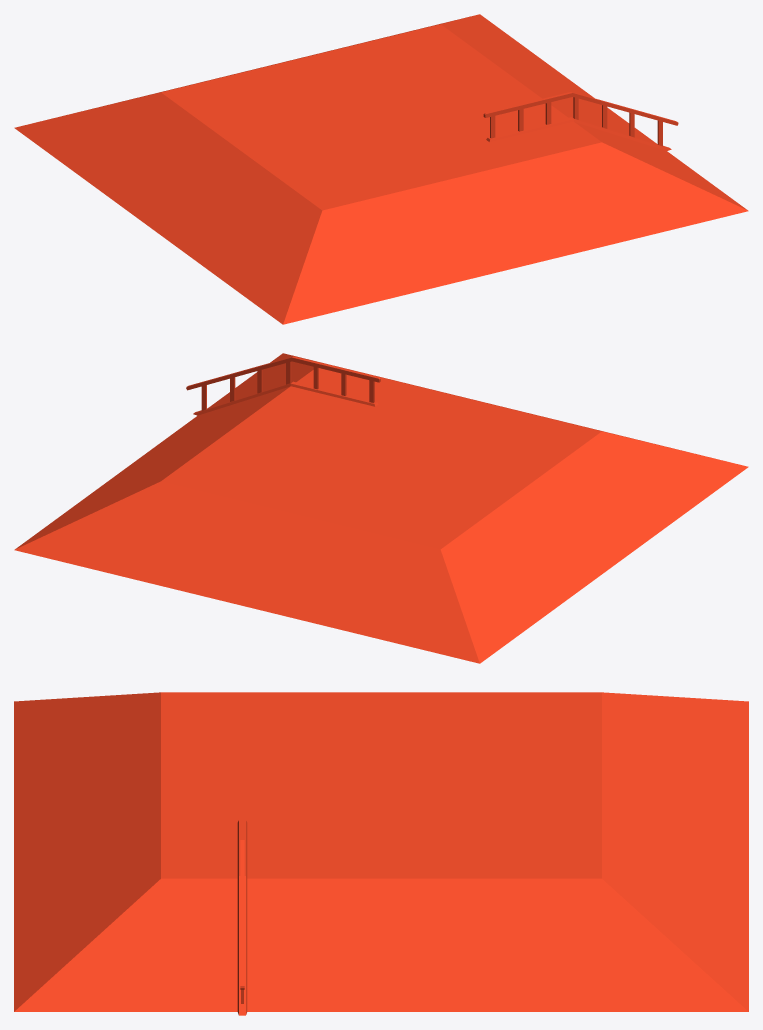
File: SM_Skate_Pyramid_City.fbx
The picture shows the model from 3 angles, top to bottom: view 1: azimuth 30°, elevation 25°; view 2: azimuth 150°, elevation 25°; view 3: azimuth 270°, elevation 25°; orthographic projection. The views are drawn at different scales.
Parts seen in each view (by area): view 1: SM_Skate_Pyramid_City; view 2: SM_Skate_Pyramid_City; view 3: SM_Skate_Pyramid_City.
Boxes of the visible parts, x1,y1,x2,y2 form: SM_Skate_Pyramid_City: (14,14,748,324); SM_Skate_Pyramid_City: (14,353,748,663); SM_Skate_Pyramid_City: (14,692,748,1015).
Size of the model in its own units: 5.13 by 0.8231 by 5.
